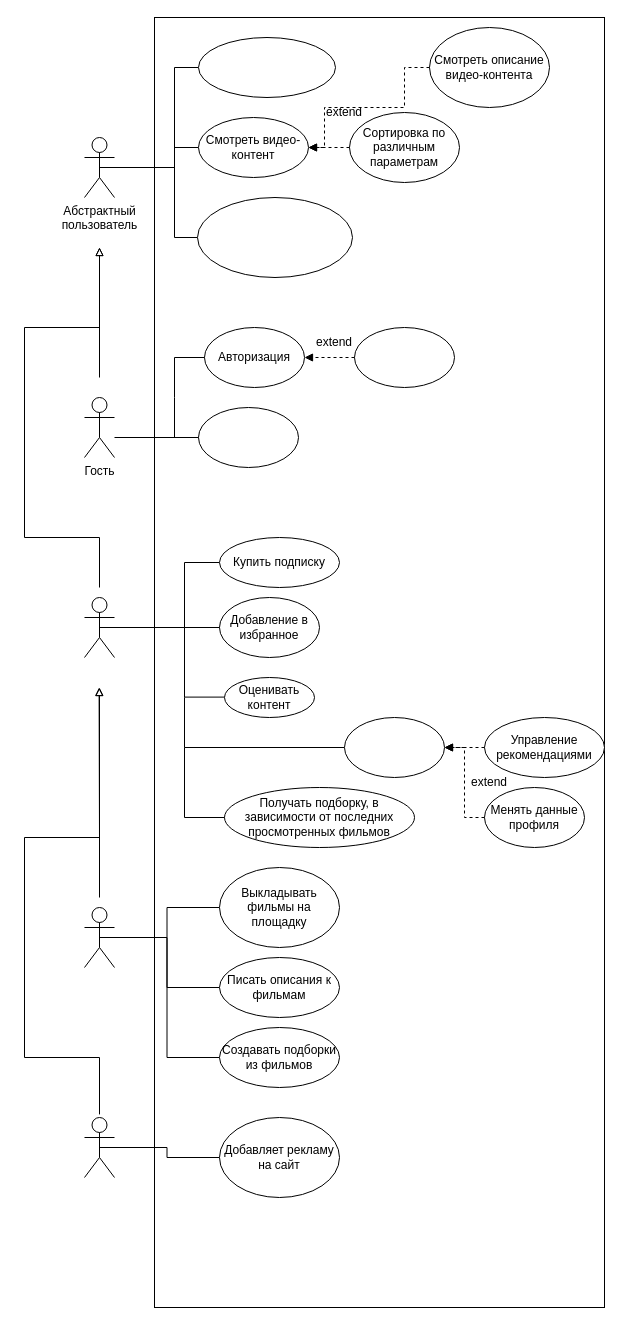
Image size: 622x1325. Some labels were removed from this diagram. Here are the shapes that lost their labels. From the top down, the centre of each, then its label:
At point 267,67: "Делиться фильмом в социальных сетях".
At point 274,237: "Без подписки смотреть рекламу".
At point 404,357: "Восстановить пароль".
At point 248,437: "Регистрация в системе".
At point 99,627: "Пользователь".
At point 394,747: "Управление профилем".
At point 99,937: "Администратор системы".
At point 99,1147: "Администратор рекламодателей".
